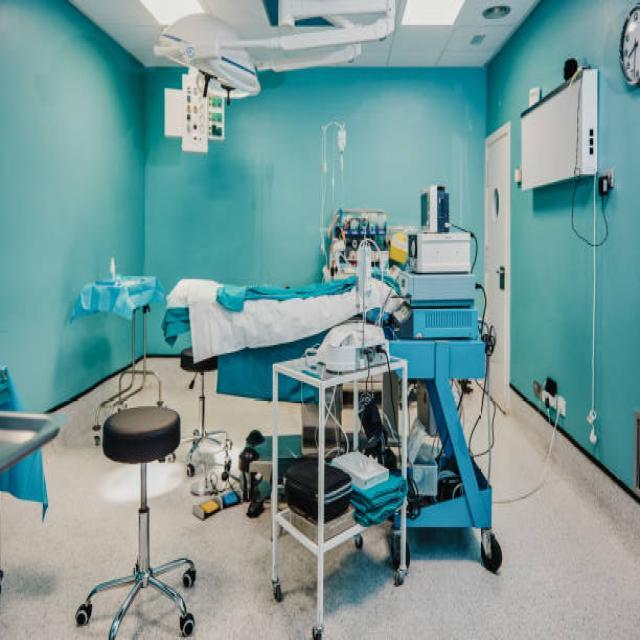bed: (164, 232, 374, 453)
stool: (77, 383, 199, 640)
tools_table: (268, 312, 411, 640), (79, 266, 170, 410)
